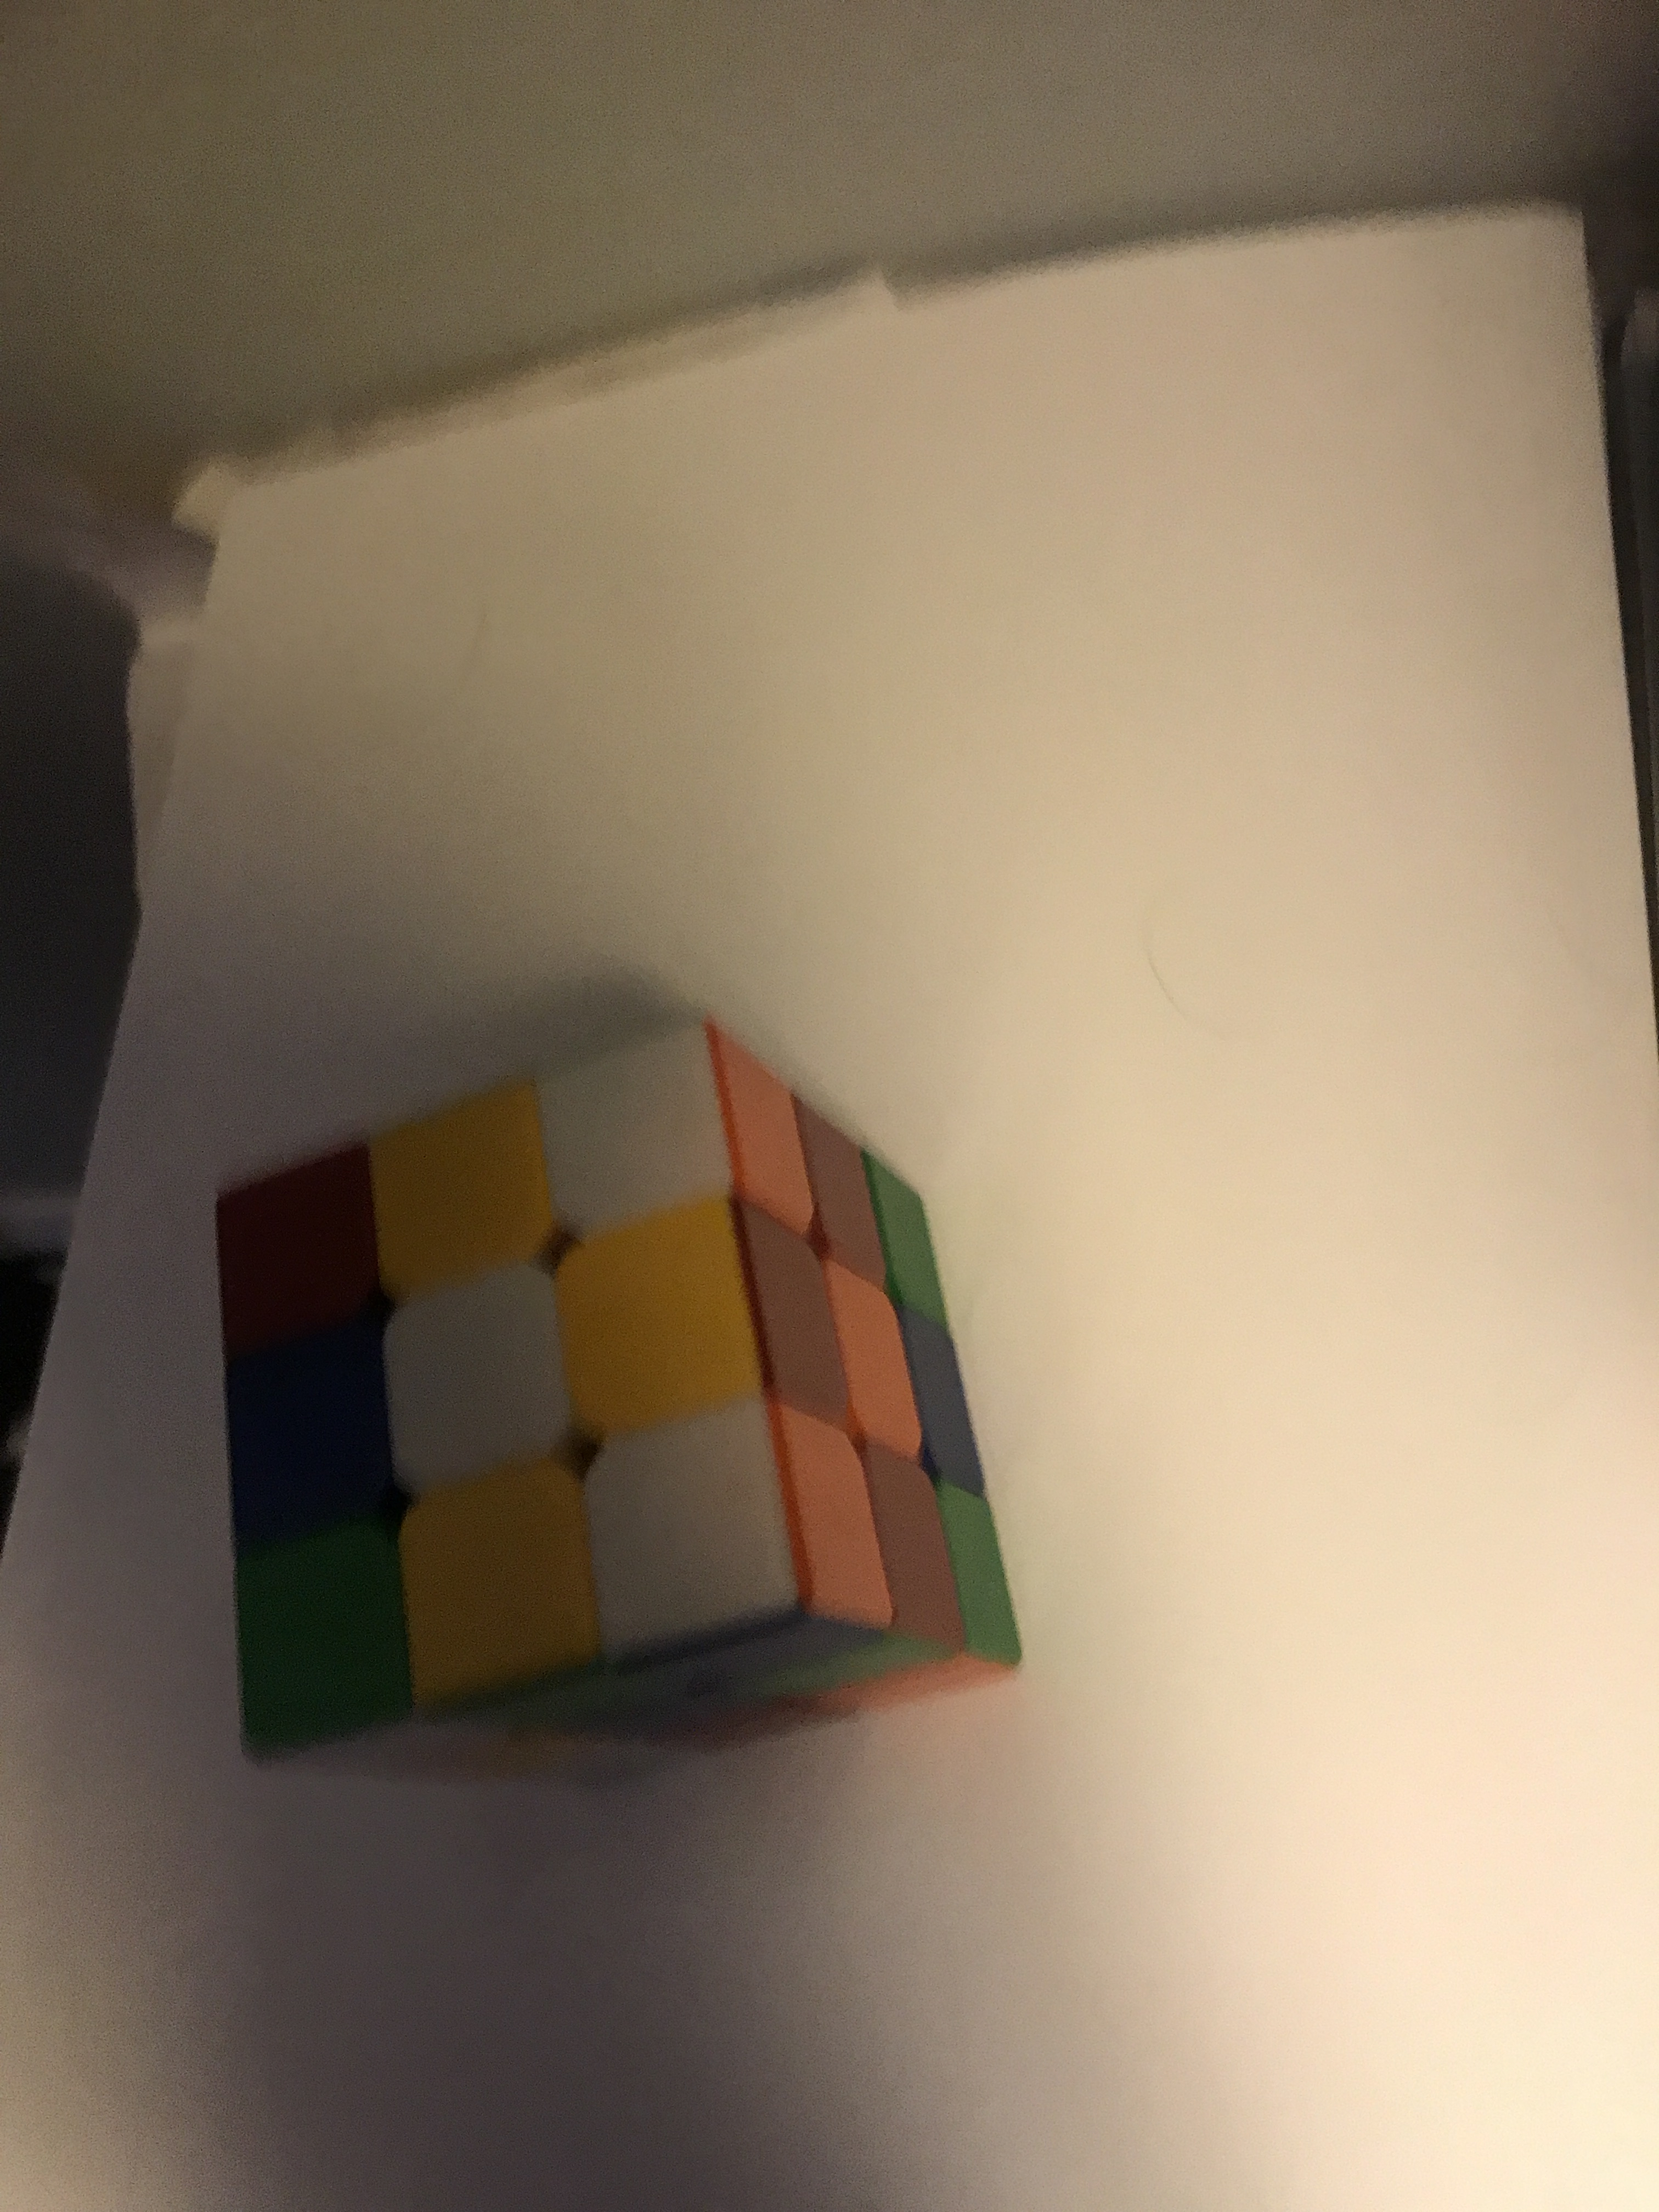rubiks: (223, 1021, 1063, 1838)
